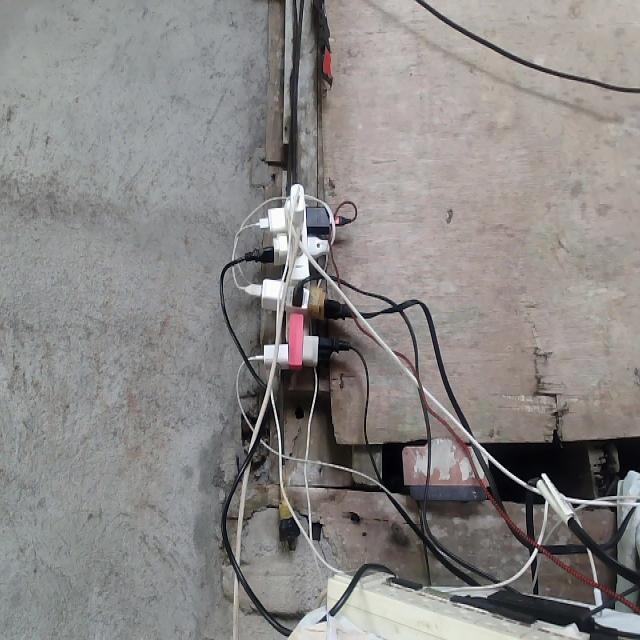-: (214, 175, 393, 386)
